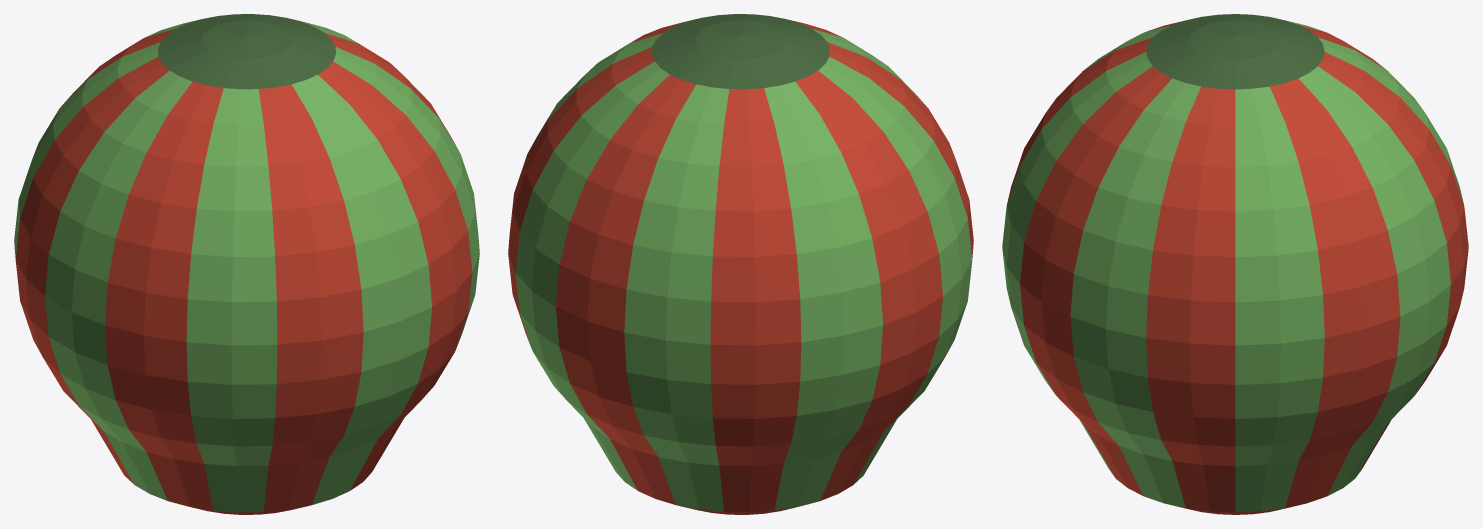
Rendered from Super_ShellS_Ball_10_R&G.fbx.
The picture shows the model from 3 angles, left to right: view 1: azimuth 30°, elevation 25°; view 2: azimuth 150°, elevation 25°; view 3: azimuth 270°, elevation 25°; orthographic projection.
Parts seen in each view (by area): view 1: Sphere; view 2: Sphere; view 3: Sphere.
Part boxes in pixels (bbox=[...]): Sphere: bbox=[14, 14, 479, 514]; Sphere: bbox=[508, 14, 973, 514]; Sphere: bbox=[1002, 14, 1468, 514].
Bounding box in the file's own units: 35 × 37.88 × 35.
Materials: 1 (1 with a texture image).
